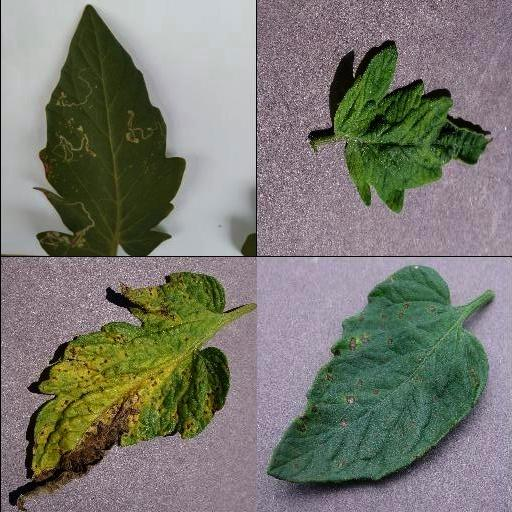Leaf Miner: (35, 4, 187, 256)
Mosaic Virus: (332, 42, 492, 216)
Septoria: (265, 263, 489, 482), (29, 273, 229, 507)
